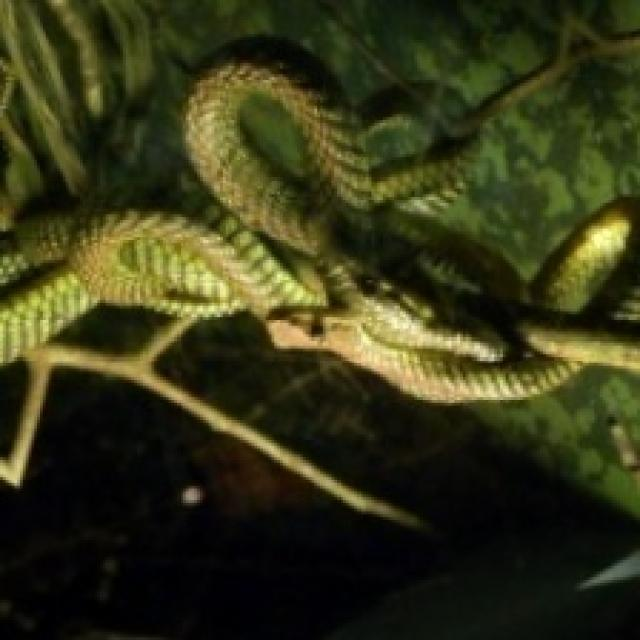paradise tree snake: (0, 20, 637, 400)
